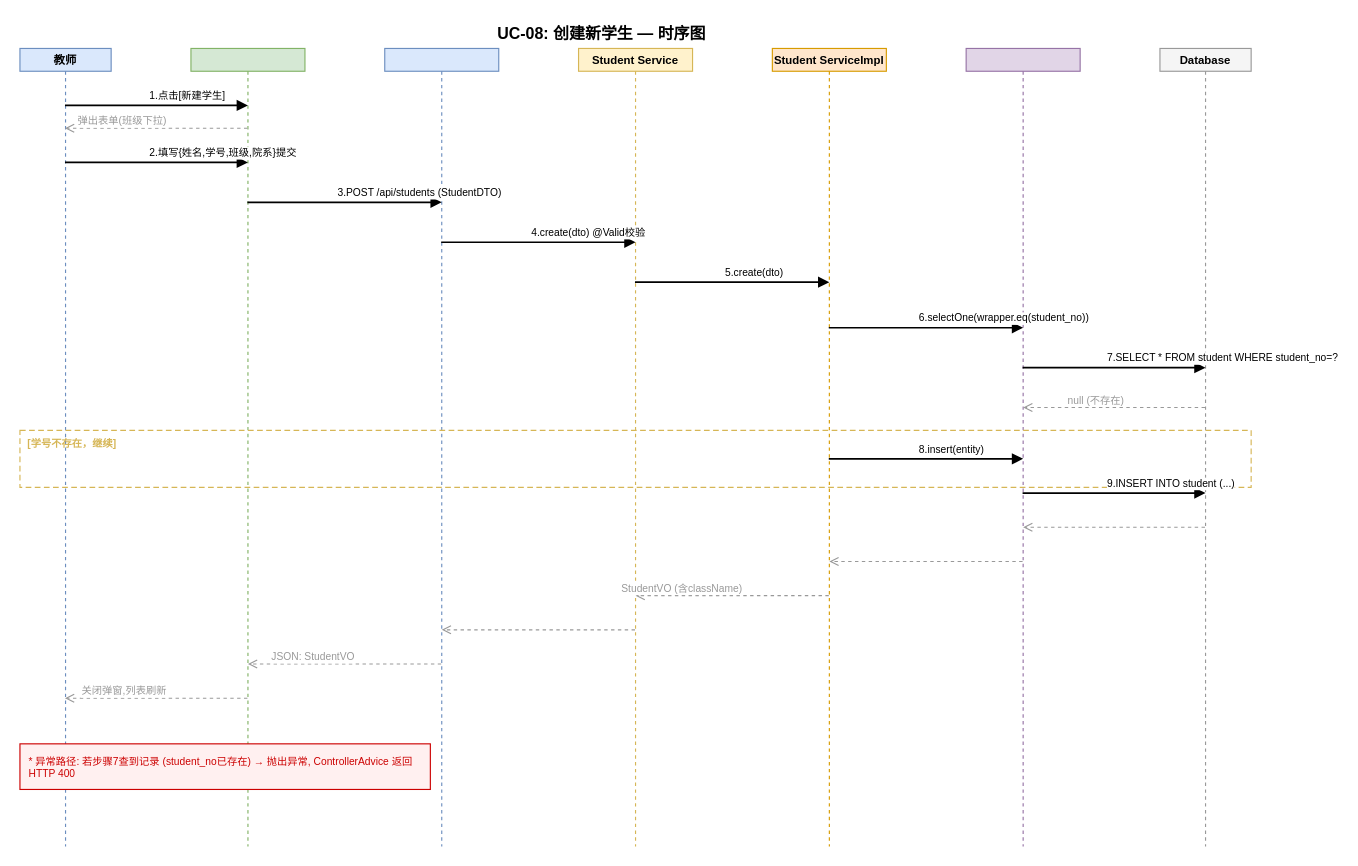
Some shapes in this 1358 by 866 pixel diagram are drawn without their labels. The box of each missing label's shape, as (x1, y1, x2, y2) in pixels:
Student Controller: (384, 47, 499, 846)
Student Mapper: (965, 47, 1080, 846)
Vue Frontend: (190, 47, 305, 846)
